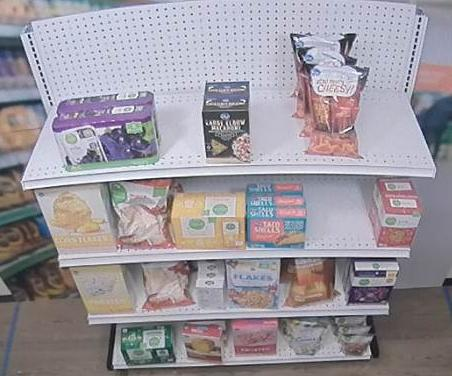stockout: (363, 70, 432, 163), (248, 78, 307, 162), (309, 177, 374, 246), (157, 87, 201, 162), (22, 105, 62, 175)
